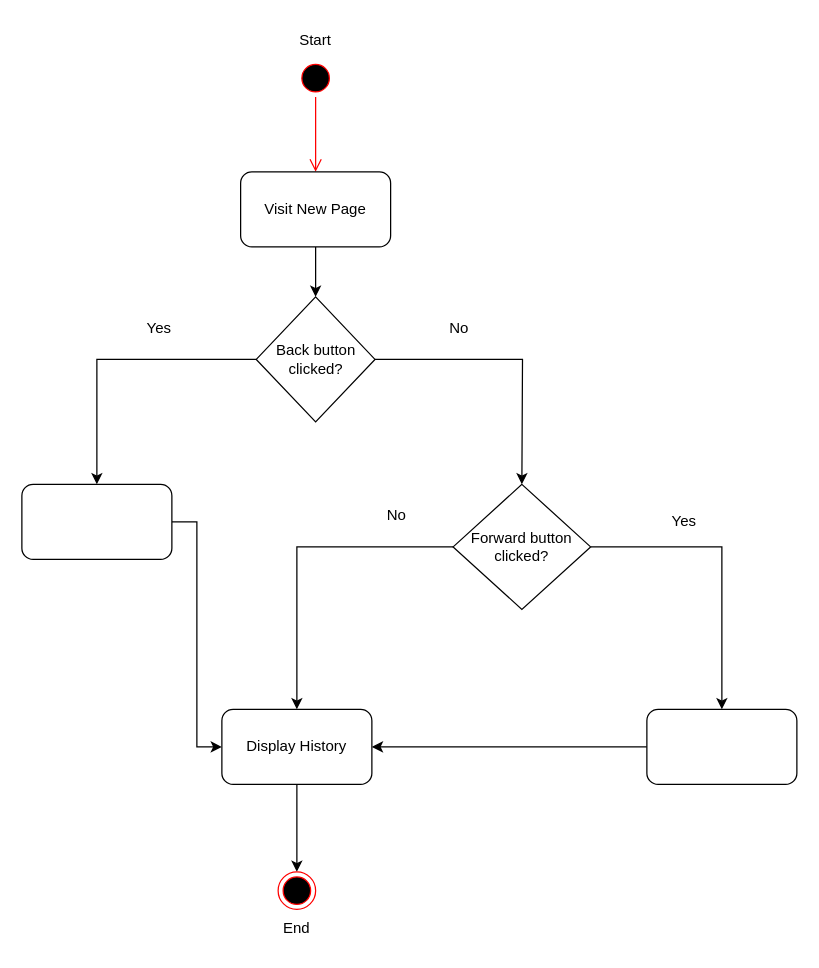
This 819x968 diagram has some shape labels left out. Here are the shapes that lost their labels. From the top down, the centre of each, then its label:
At point 96,521: "Go Back".
At point 721,746: "Go Forward".
